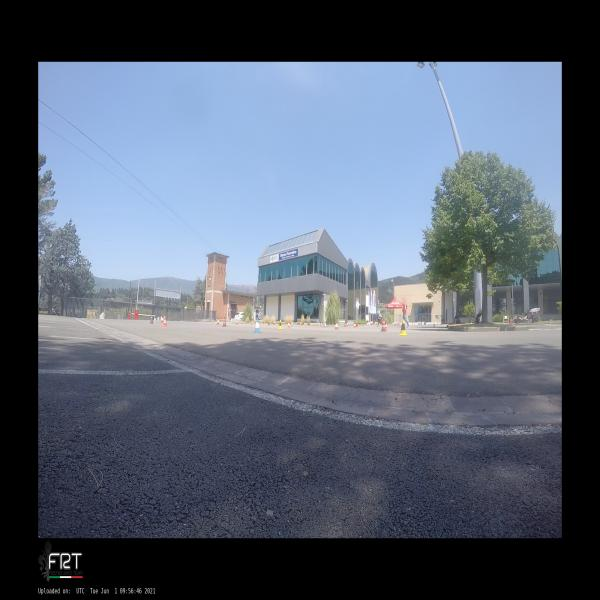blue_cone: (253, 318, 262, 333), (324, 322, 327, 328), (291, 321, 293, 327)
large_orange_cone: (380, 318, 388, 332), (222, 317, 227, 326), (273, 318, 275, 325)
orange_cone: (162, 316, 168, 327), (334, 321, 339, 330), (287, 320, 291, 329), (160, 315, 164, 323), (216, 318, 220, 325), (385, 322, 388, 330), (235, 319, 238, 325), (354, 324, 358, 328), (344, 323, 348, 326), (251, 319, 253, 325), (321, 322, 323, 327), (300, 321, 302, 326), (241, 319, 243, 324), (212, 318, 214, 323), (412, 322, 414, 327), (318, 322, 320, 326)
unknown_cone: (149, 314, 154, 323), (268, 320, 270, 325), (433, 323, 435, 327), (376, 323, 378, 327)
yellow_cone: (398, 318, 408, 336), (278, 320, 282, 329)
